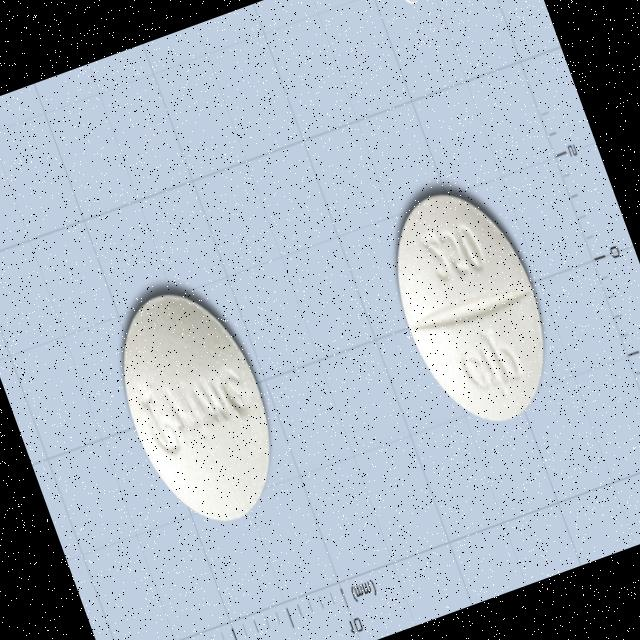Loxin: (368, 174, 574, 444), (96, 272, 300, 542)
